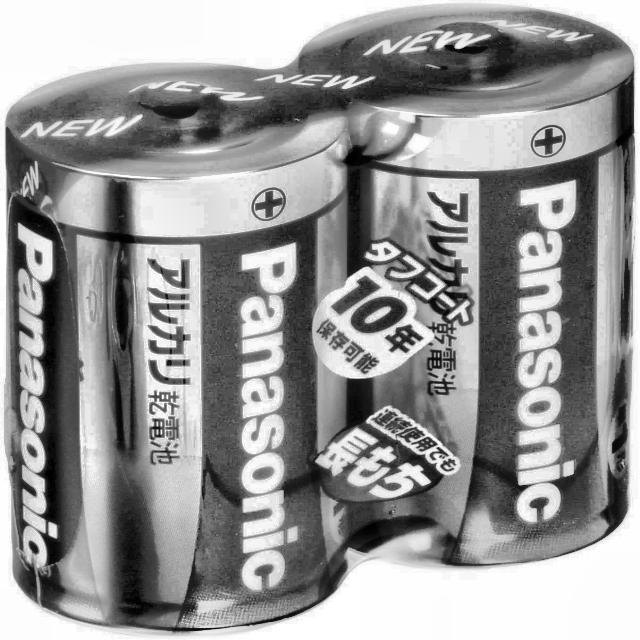drycell: (0, 59, 353, 640), (300, 3, 634, 572)
